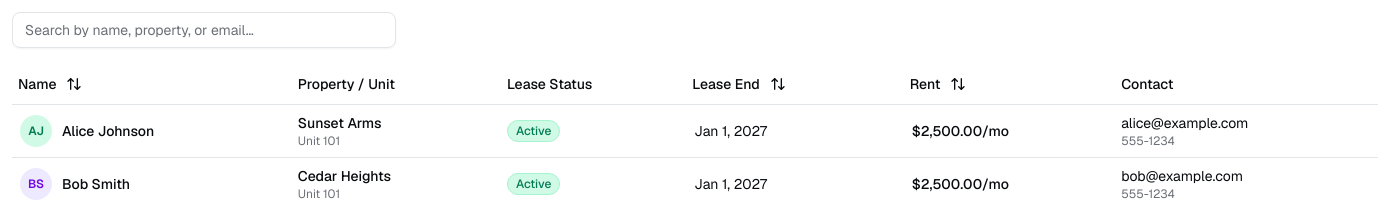
Test case: TenantsTable › shows empty state when no matches
The width and height of the screenshot is (1378, 217).
Type "zzz" into the field with placeholder "Search by name, property, or email…".
click(204, 30); type("zzz")  # box x1=12 y1=12 x2=396 y2=48
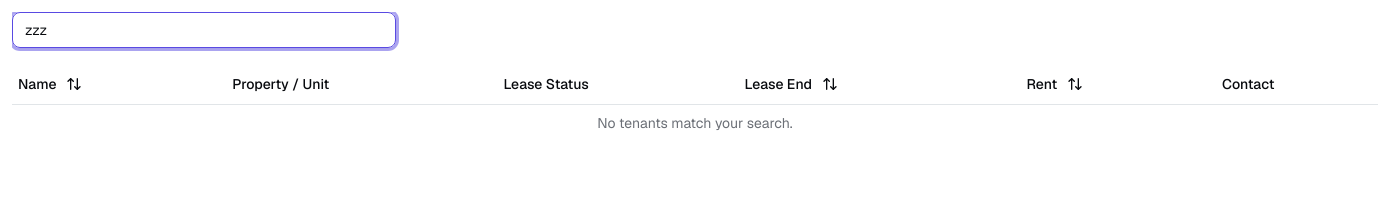
Now the text "No tenants match your search." is shown, box x1=12 y1=104 x2=1377 y2=140
